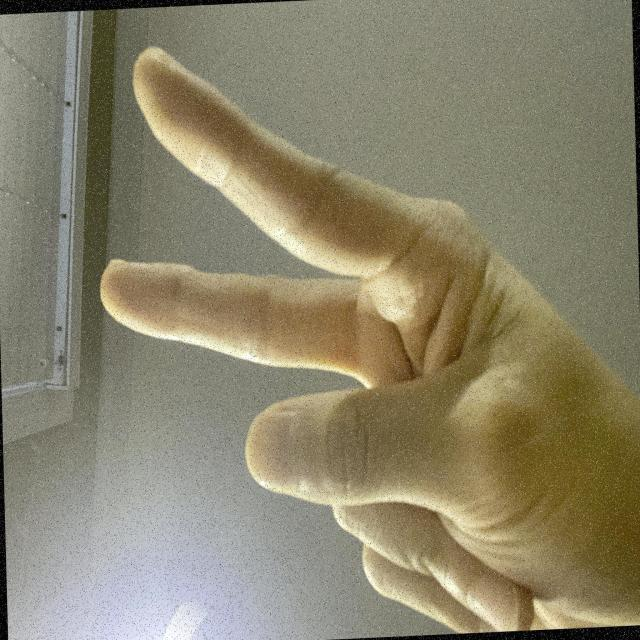K: (0, 118, 467, 640)
